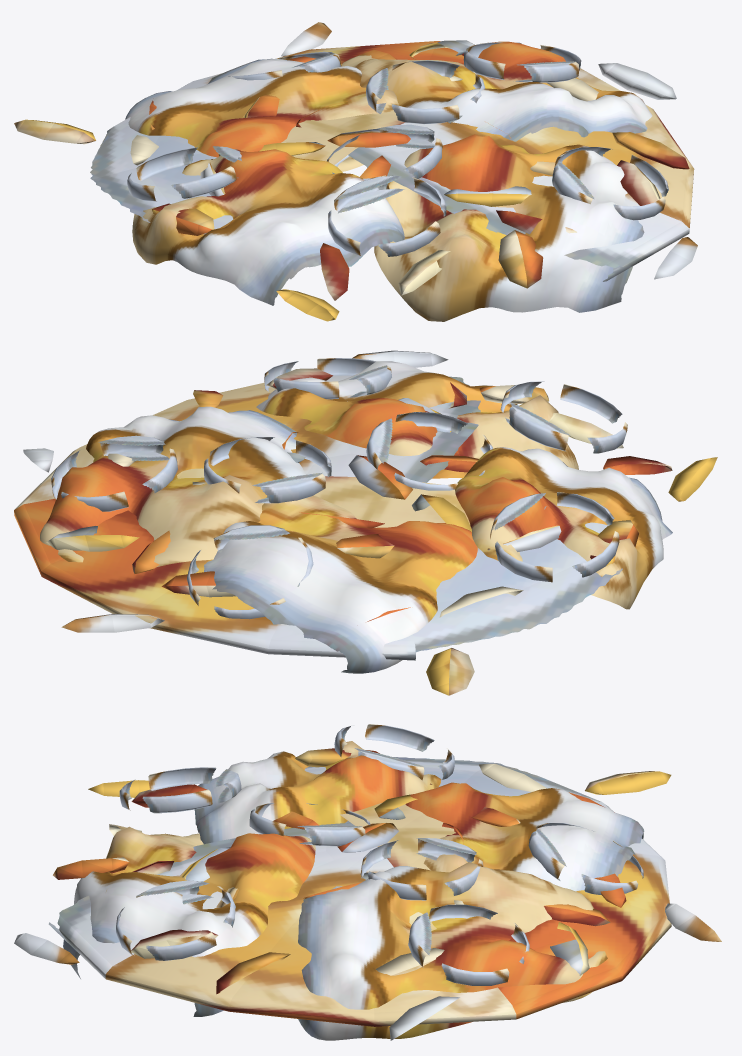
The model's file is Web_FriedRice_Mesh_Carrot.fbx.
The picture shows the model from 3 angles, top to bottom: view 1: azimuth 30°, elevation 25°; view 2: azimuth 150°, elevation 25°; view 3: azimuth 270°, elevation 25°; orthographic projection. The views are drawn at different scales.
Visible parts, largest first — view 1: 胡萝卜蛋炒饭; view 2: 胡萝卜蛋炒饭; view 3: 胡萝卜蛋炒饭.
Boxes of the visible parts, x1,y1,x2,y2 form: 胡萝卜蛋炒饭: (14, 22, 697, 321); 胡萝卜蛋炒饭: (14, 350, 717, 695); 胡萝卜蛋炒饭: (14, 724, 721, 1040).
Bounding box in the file's own units: 81.93 × 16.8 × 86.55.
Materials: 1 (1 with a texture image).
